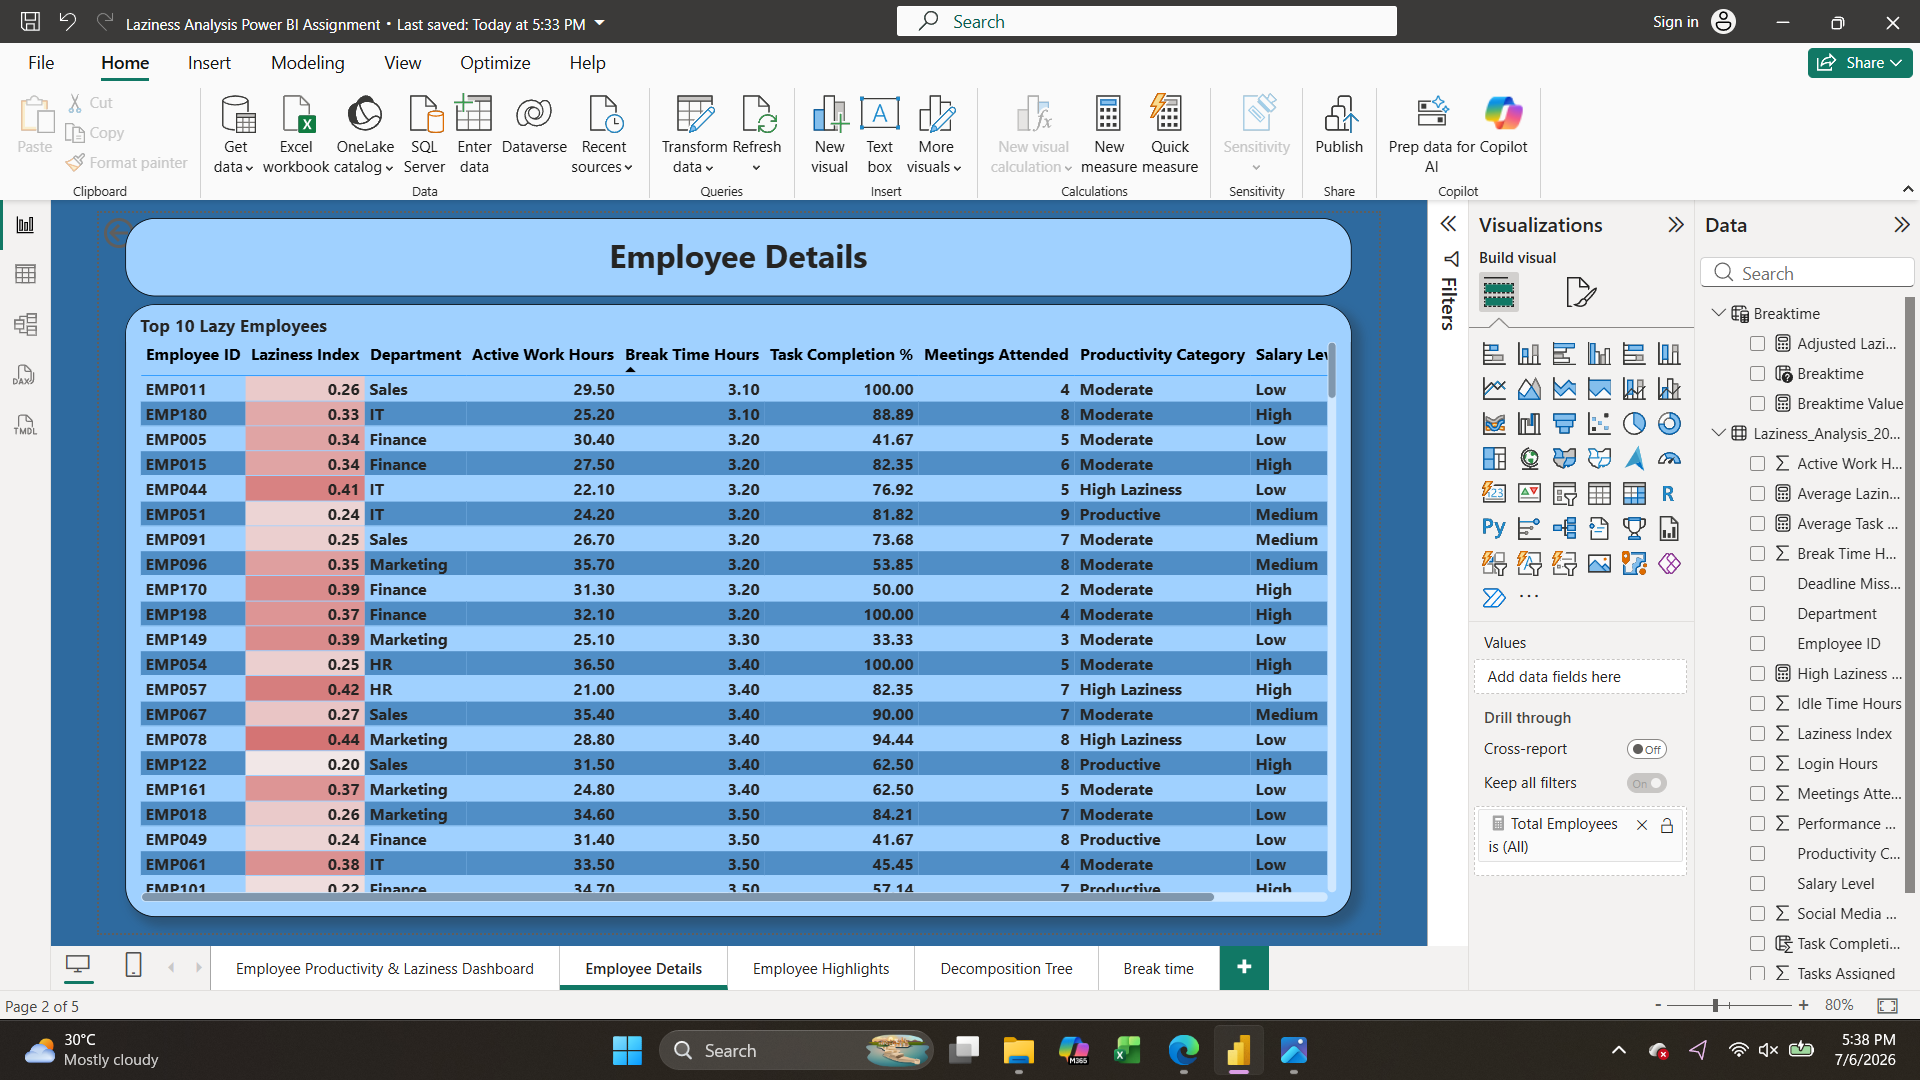

What the dashboard file says about the page in this screenshot:
{"tool":"powerbi","page":{"name":"Employee Details","canvas":[1280,720],"ordinal":1},"visuals":[{"type":"actionButton","box":[0,0,100,40],"z":0},{"type":"tableEx","title":"Top 10 Lazy Employees","fields":{"Values":["Laziness_Analysis_200_Records.Employee_ID","Sum(Laziness_Analysis_200_Records.Laziness_Index)","Laziness_Analysis_200_Records.Department","Sum(Laziness_Analysis_200_Records.Active_Work_Hours)","Sum(Laziness_Analysis_200_Records.Break_Time_Hours)","Sum(Laziness_Analysis_200_Records.Task Completion %)","Sum(Laziness_Analysis_200_Records.Meetings_Attended)","Laziness_Analysis_200_Records.Productivity Category","Laziness_Analysis_200_Records.Salary_Level","Laziness_Analysis_200_Records.Work_Mode"]},"box":[26.2,91.2,1226.2,612.5],"z":1000},{"type":"textbox","box":[26,4.7,1226.7,78],"z":1001}]}

Visuals, with their boxes on the page's 1280x720 design canvas (x1, y1, x2, y2). These are canvas units, not pixel positions in the 1920x1080 screenshot, which may show the page scaled, cropped or inside an application window:
actionButton: bbox=(0, 0, 100, 40)
"Top 10 Lazy Employees" tableEx: bbox=(26, 91, 1252, 704)
textbox: bbox=(26, 5, 1253, 83)
